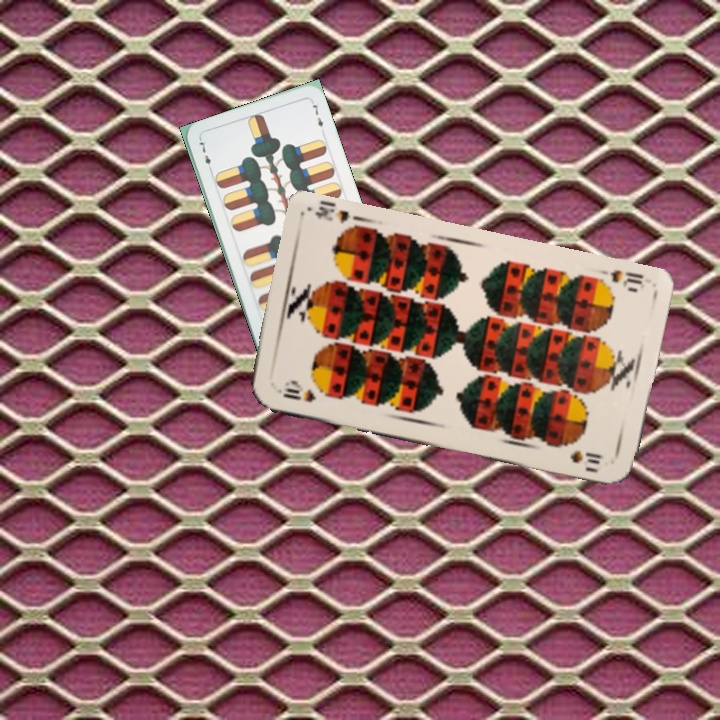E7: (195, 135, 215, 175)
S10: (592, 265, 646, 295), (273, 383, 318, 405)
